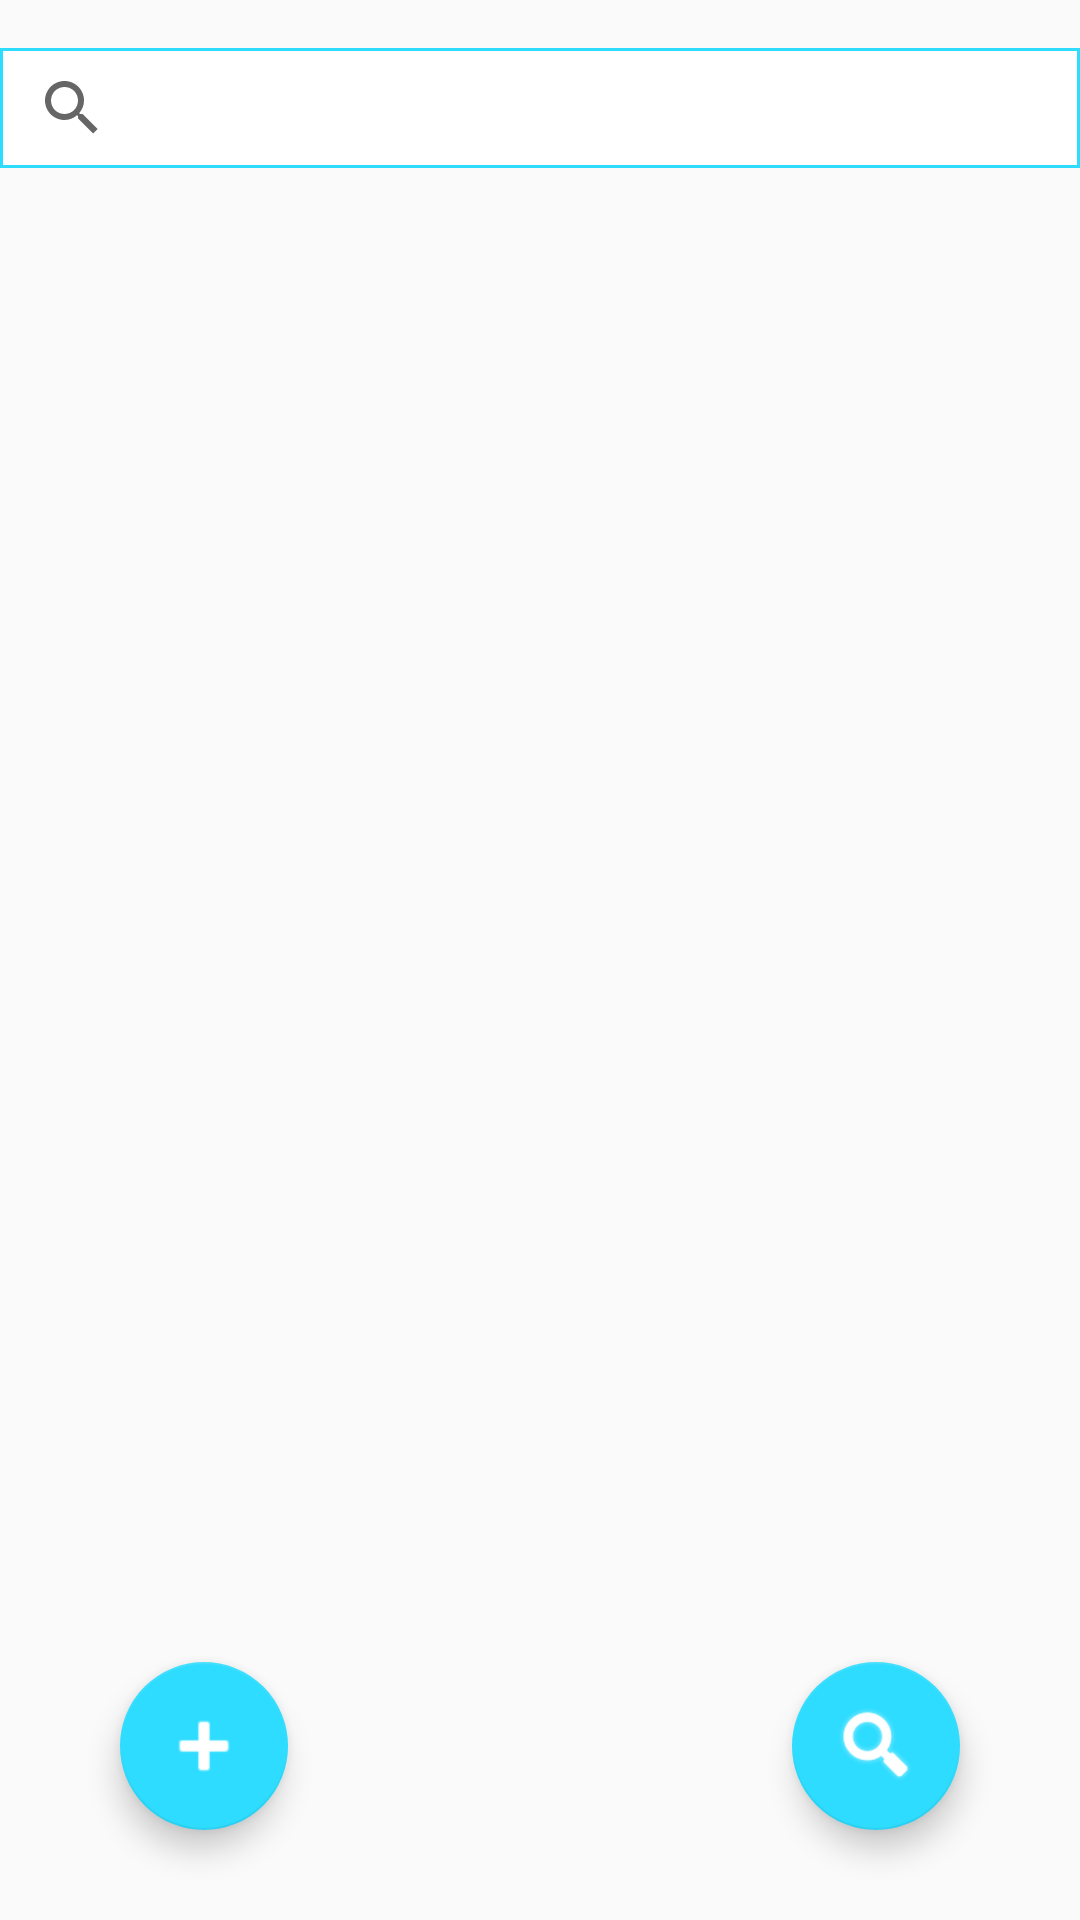

Icon click points for this 1080w x 1920h phone screenshot, format point (x, y):
add: point (204, 1746)
